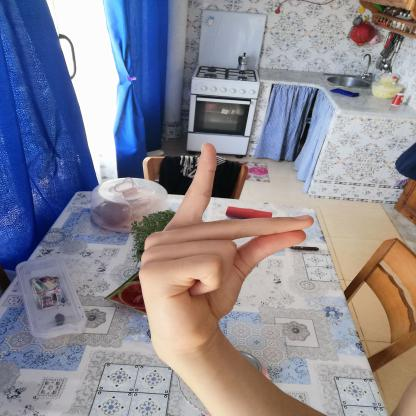TAA: (125, 135, 323, 366)
